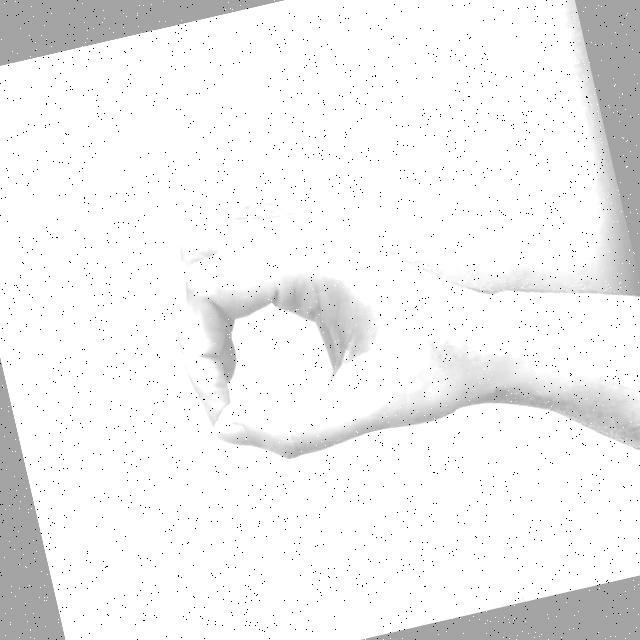O: (133, 145, 506, 528)
